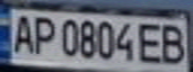0: (93, 18, 118, 61), (57, 16, 81, 58)
4: (115, 19, 139, 63)
8: (78, 17, 96, 60)
A: (6, 11, 36, 54)
B: (157, 20, 190, 65)
E: (136, 20, 166, 64)
P: (30, 12, 57, 56)
